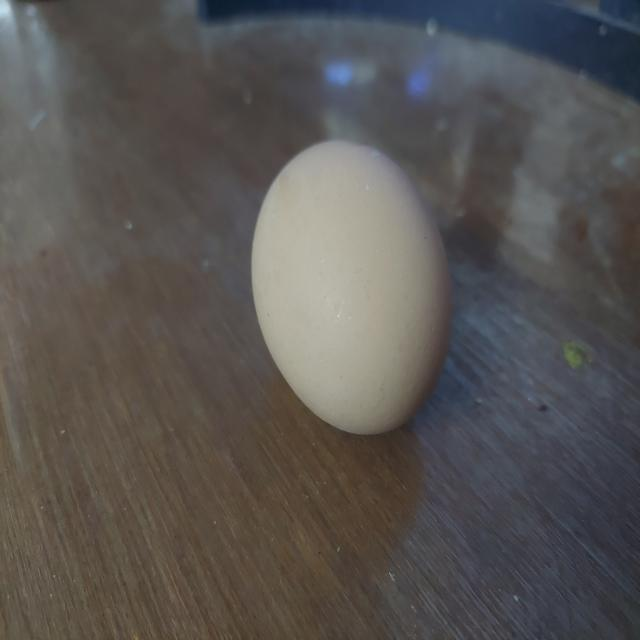egg: (251, 135, 458, 444)
